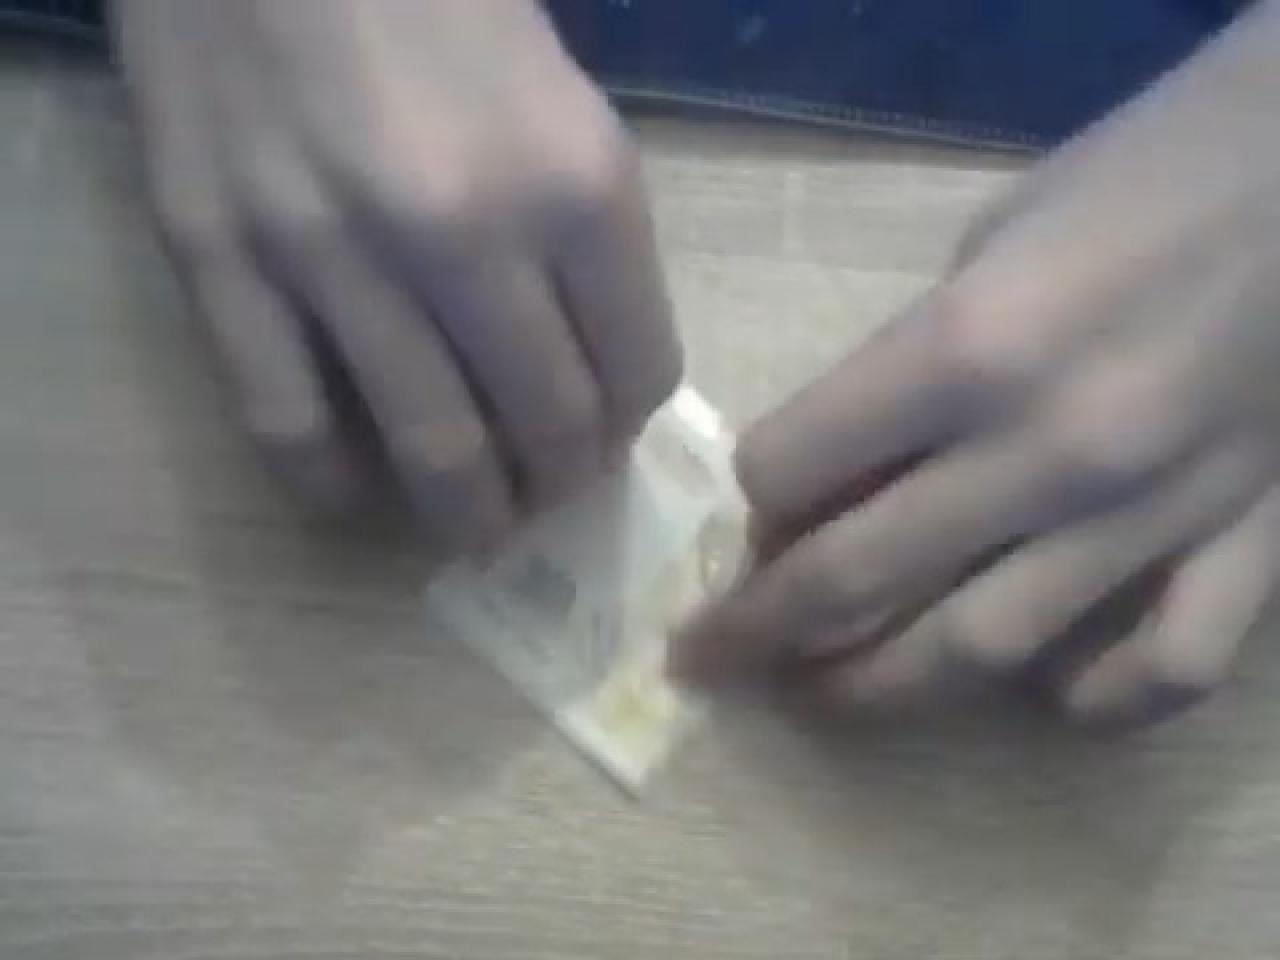10leva: (421, 384, 749, 803)
